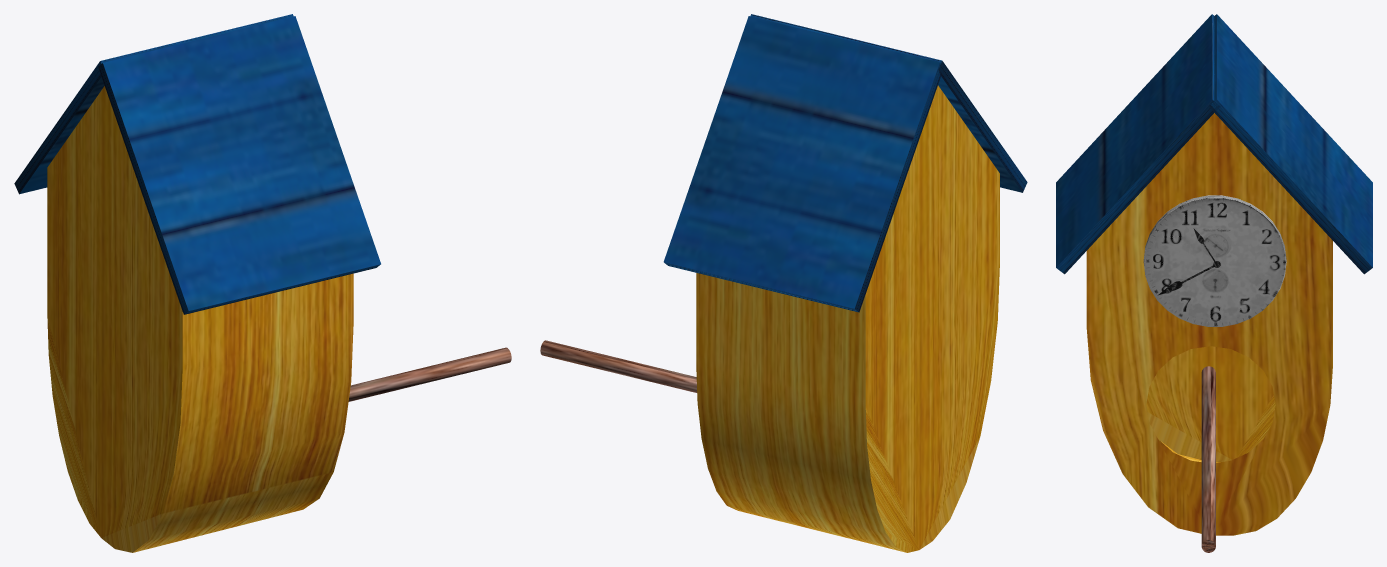
Rendered from relojCaja.obj.
3 views of the same model, side by side, from view 1: azimuth 30°, elevation 25°; view 2: azimuth 150°, elevation 25°; view 3: azimuth 270°, elevation 25° (orthographic). The views are drawn at different scales.
Parts seen in each view (by area): view 1: polySurface101 polySurface98 pebble:pCylinder4; view 2: polySurface101 polySurface98 pebble:pCylinder4; view 3: polySurface101 polySurface98 pebble:pCylinder4.
Part boxes in pixels (<box>): polySurface101 polySurface98 pebble:pCylinder4: <box>14,14,511,552</box>; polySurface101 polySurface98 pebble:pCylinder4: <box>540,14,1027,552</box>; polySurface101 polySurface98 pebble:pCylinder4: <box>1056,14,1372,552</box>.
Bounding box in the file's own units: 36.96 × 42.75 × 27.69.
5 materials, 5 textured.
